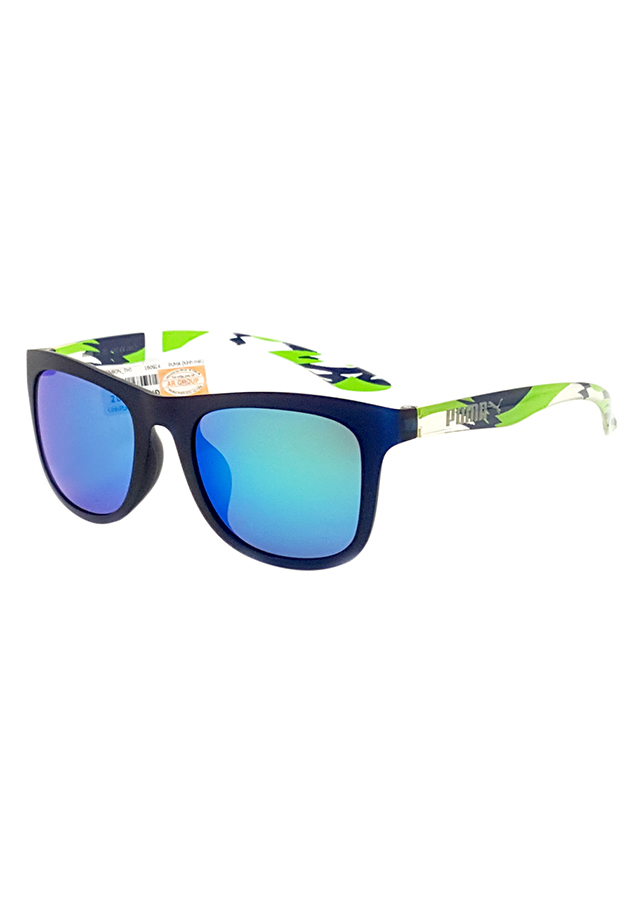Puma: (432, 397, 516, 431)
